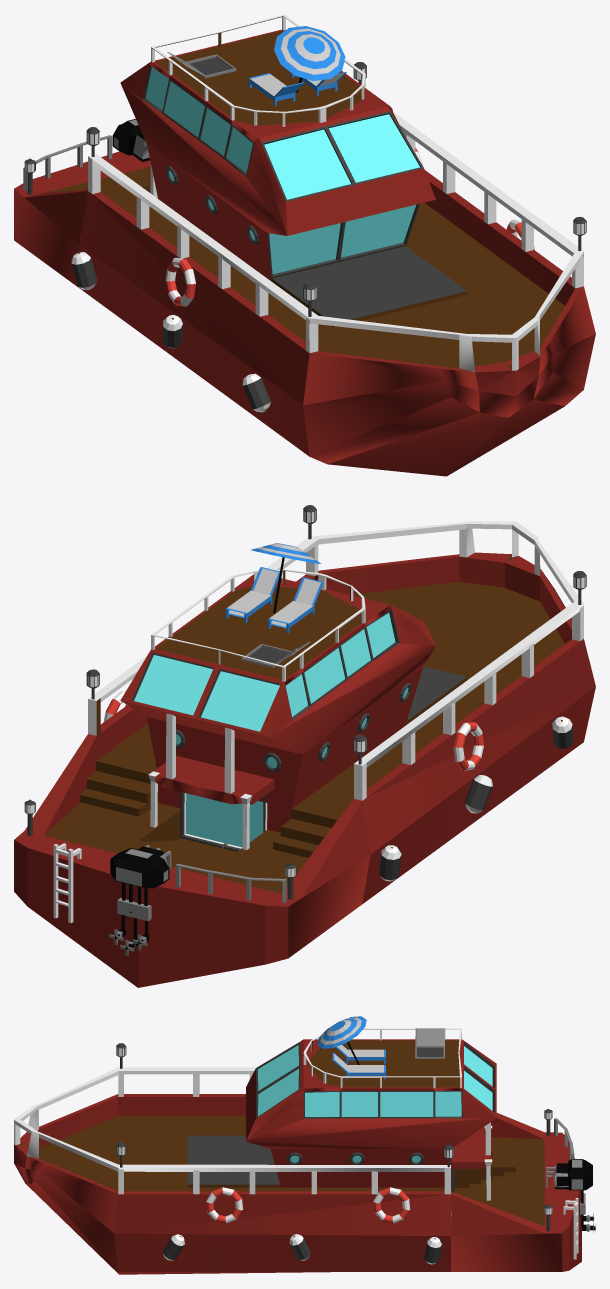
The model's file is boat.gltf.
3 views of the same model, one above another, from view 1: azimuth 30°, elevation 25°; view 2: azimuth 150°, elevation 25°; view 3: azimuth 270°, elevation 25° (orthographic). The views are drawn at different scales.
Visible parts, largest first — view 1: bateau; view 2: bateau; view 3: bateau.
Part boxes in pixels (x1=…): bateau: x1=14, y1=14, x2=595, y2=476; bateau: x1=14, y1=505, x2=595, y2=987; bateau: x1=14, y1=1016, x2=595, y2=1274.
Size of the model in its own units: 0.125 by 0.1185 by 0.2555.
Materials: 1 (1 with a texture image).
